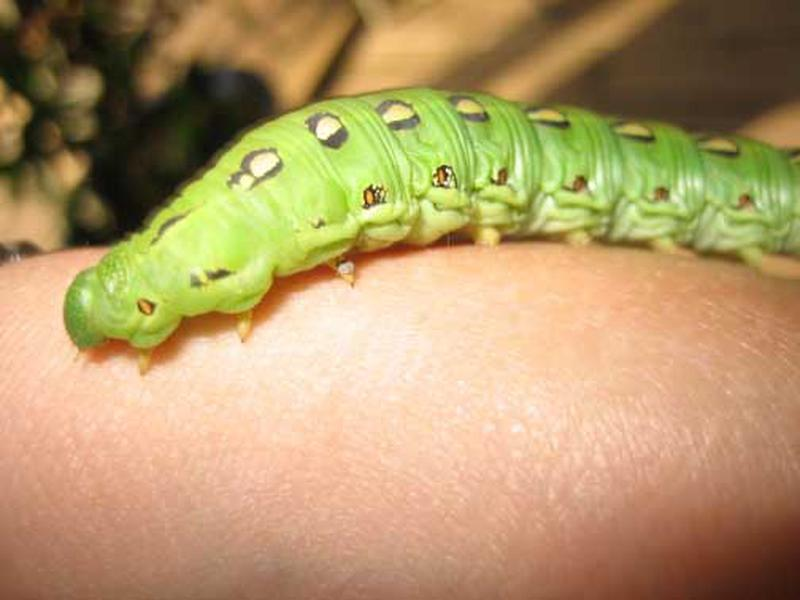Rice_horned_caterpillar: (54, 76, 800, 364)
